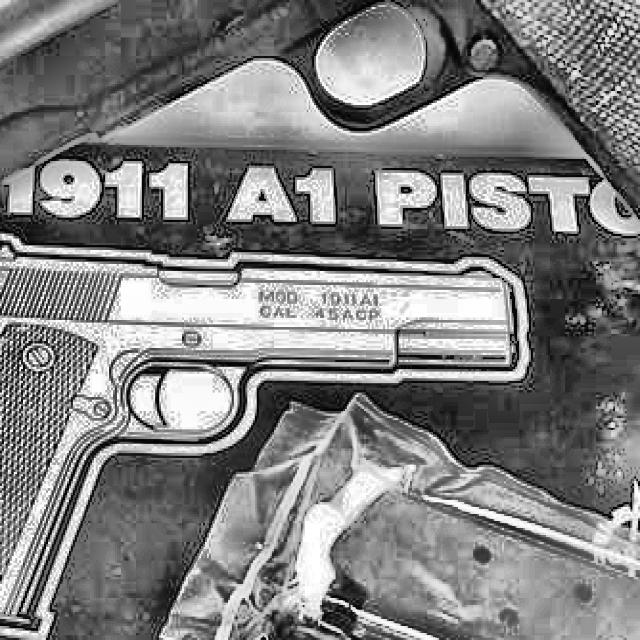Norinco: (0, 0, 640, 269)
